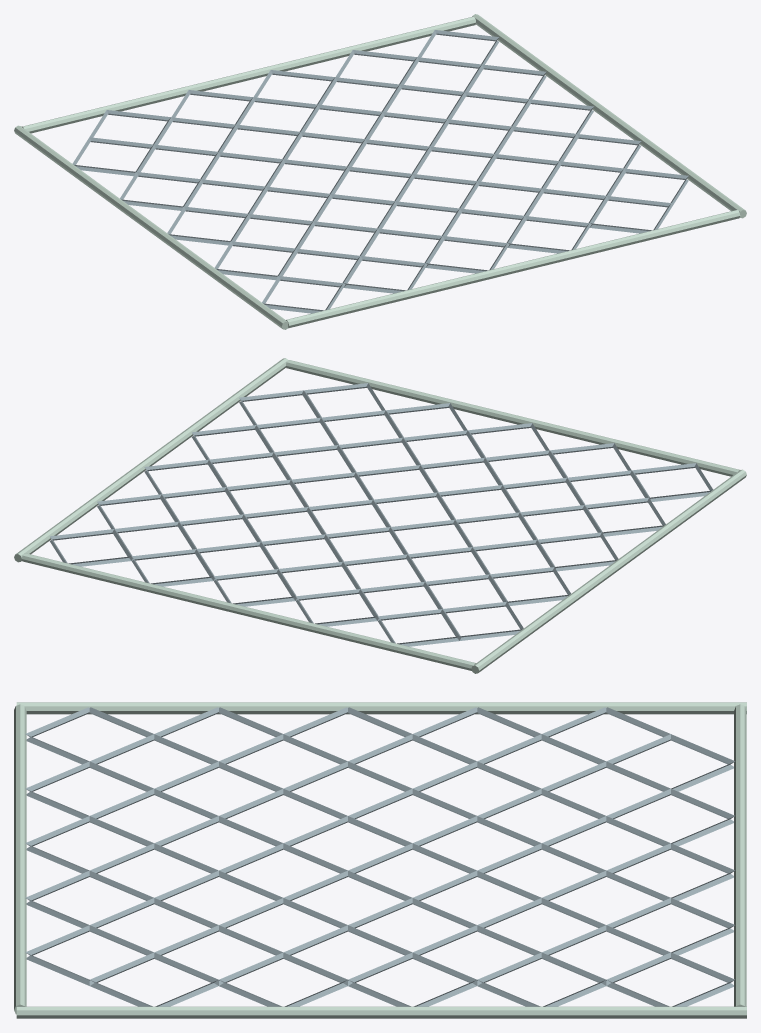
The model's file is Iron Zig Zig Fense Wall.fbx.
3 views of the same model, one above another, from view 1: azimuth 30°, elevation 25°; view 2: azimuth 150°, elevation 25°; view 3: azimuth 270°, elevation 25° (orthographic). The views are drawn at different scales.
Parts seen in each view (by area): view 1: Grid, Cylinder.001; view 2: Grid, Cylinder.001; view 3: Grid, Cylinder.001.
Part boxes in pixels (x1=…): Grid: x1=72, y1=30, x2=688, y2=313; Cylinder.001: x1=14, y1=14, x2=746, y2=329; Grid: x1=49, y1=383, x2=713, y2=646; Cylinder.001: x1=14, y1=358, x2=746, y2=673; Grid: x1=25, y1=707, x2=734, y2=1006; Cylinder.001: x1=14, y1=702, x2=746, y2=1018.
Bounding box in the file's own units: 206 × 3.55 × 206.
